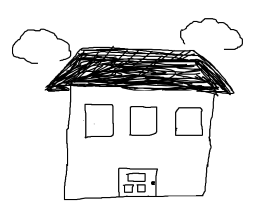clouds: (173, 11, 250, 55), (9, 18, 76, 66)
door: (107, 154, 164, 201)
open_window: (78, 92, 119, 146), (125, 96, 165, 140), (172, 99, 206, 147)
shaded_roof: (31, 40, 254, 100)
wall: (56, 90, 222, 203)
